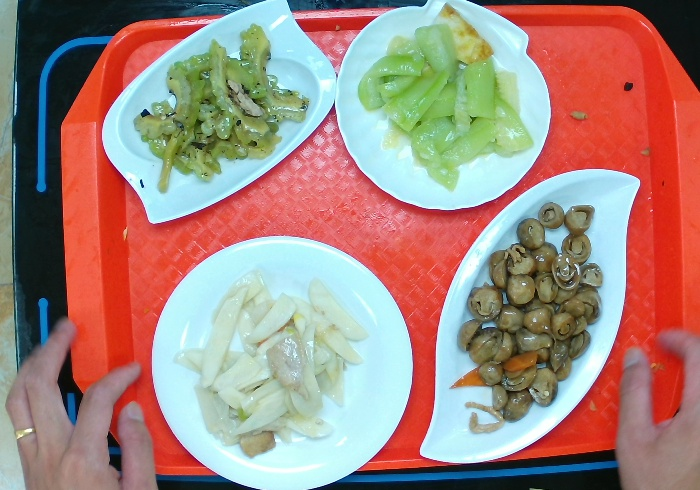RJxy-Bei_Ke_Wan: (337, 1, 553, 220)
RJxy-Jian_Jiao_Fang_Die: (101, 1, 340, 226)
RJxy-Jian_Jiao_Pan: (412, 162, 640, 475)
RJxy-Yuan_Pan: (148, 226, 413, 490)
